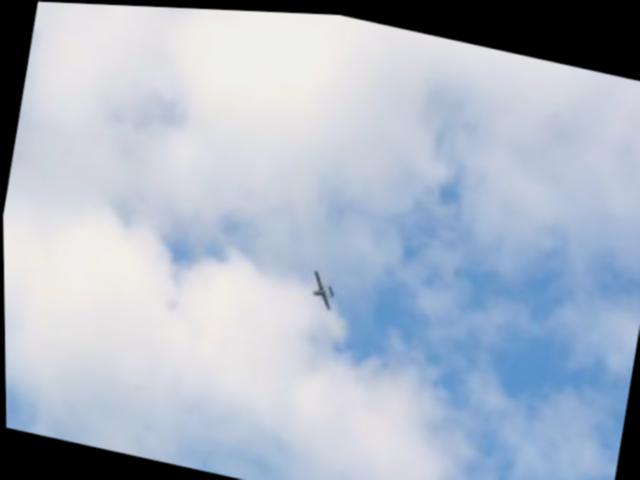uav: (305, 261, 339, 312)
